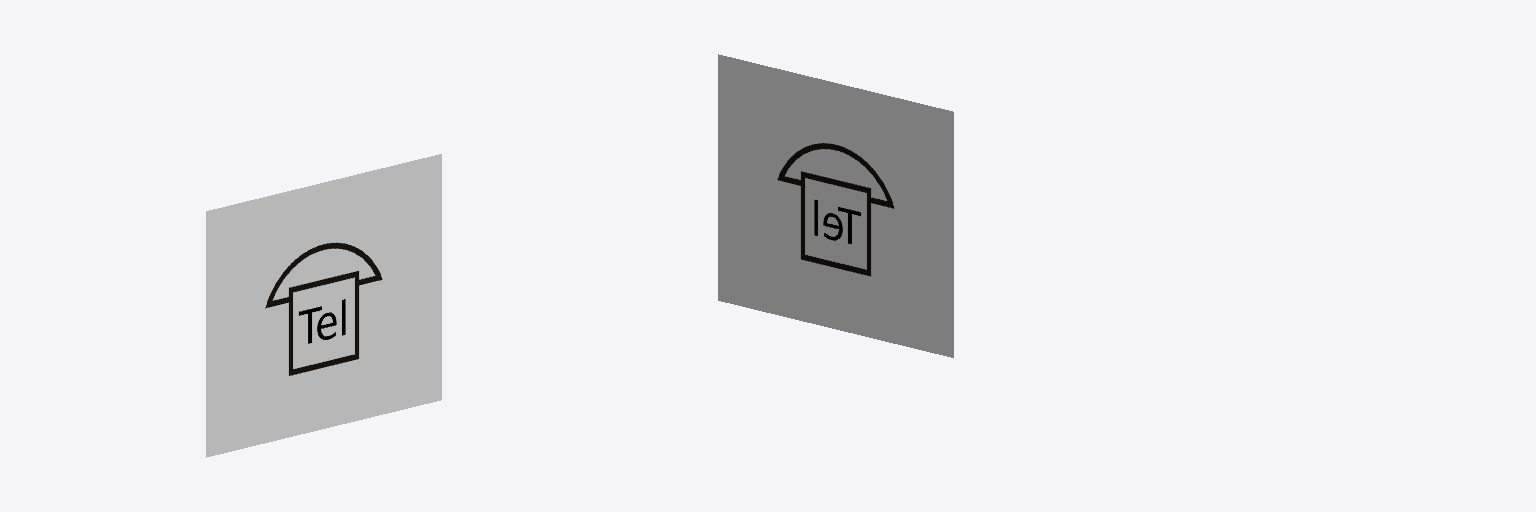
3 views of the same model, side by side, from view 1: azimuth 30°, elevation 25°; view 2: azimuth 150°, elevation 25°; view 3: azimuth 270°, elevation 25° (orthographic).
Visible parts, largest first — view 1: Mesh; view 2: Mesh; view 3: none.
Part boxes in pixels (bbox=[...]): Mesh: bbox=[206, 154, 441, 457]; Mesh: bbox=[718, 54, 953, 357].
Bounding box in the file's own units: 50 × 50 × 50.
Materials: 2 (2 with a texture image).